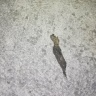Dog: (49, 34, 68, 78)
